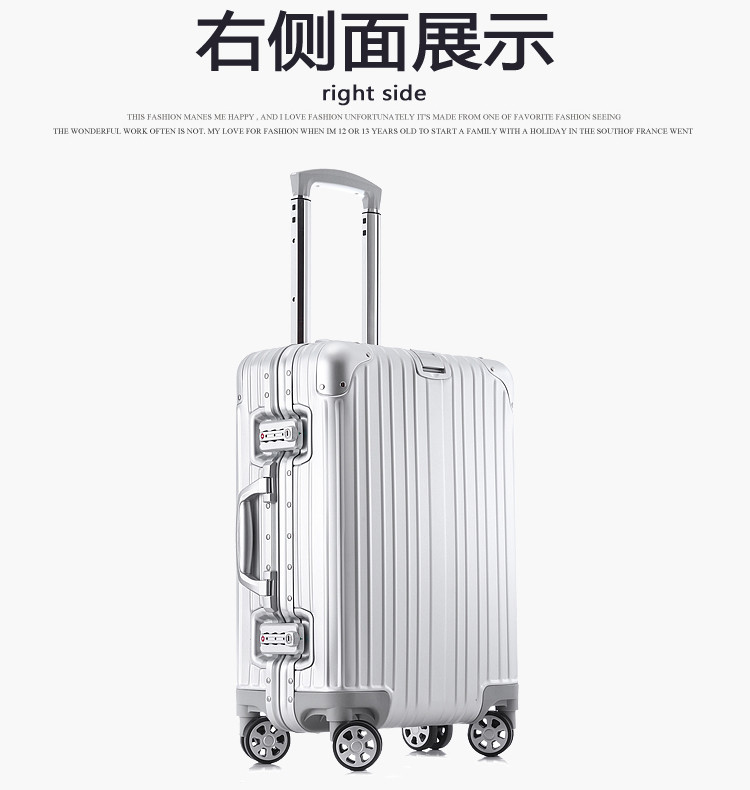luggage: (228, 166, 523, 772)
